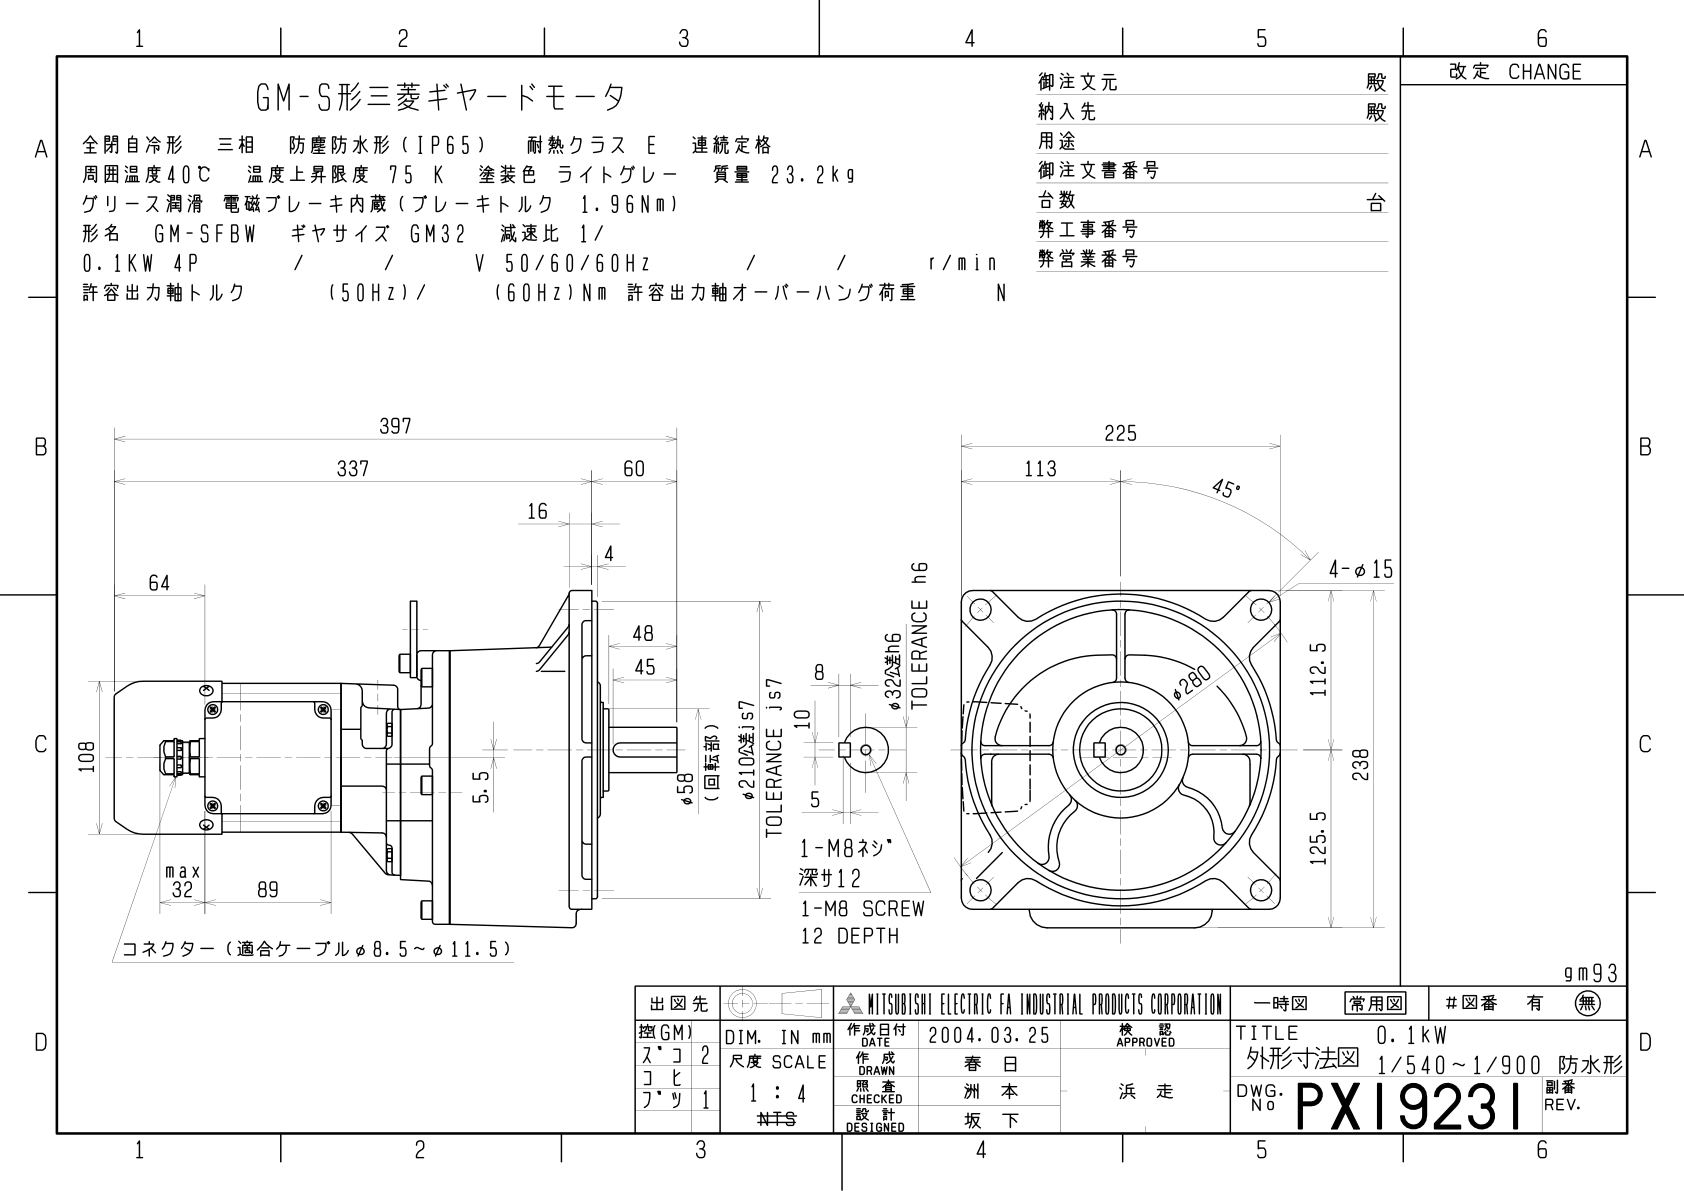GM_S_IP65＿三相_フランジ: (70, 367, 1386, 978)
